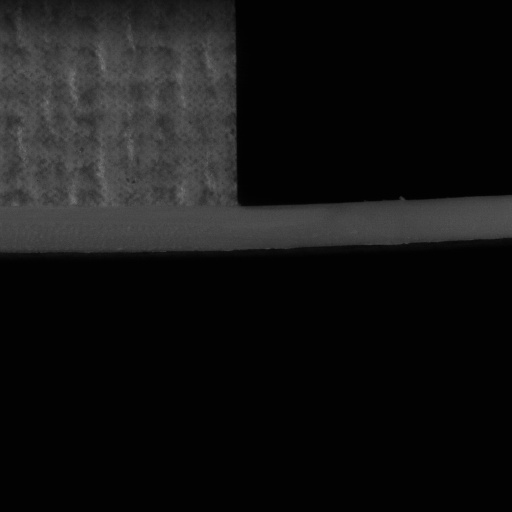changdai: (234, 194, 511, 254)
